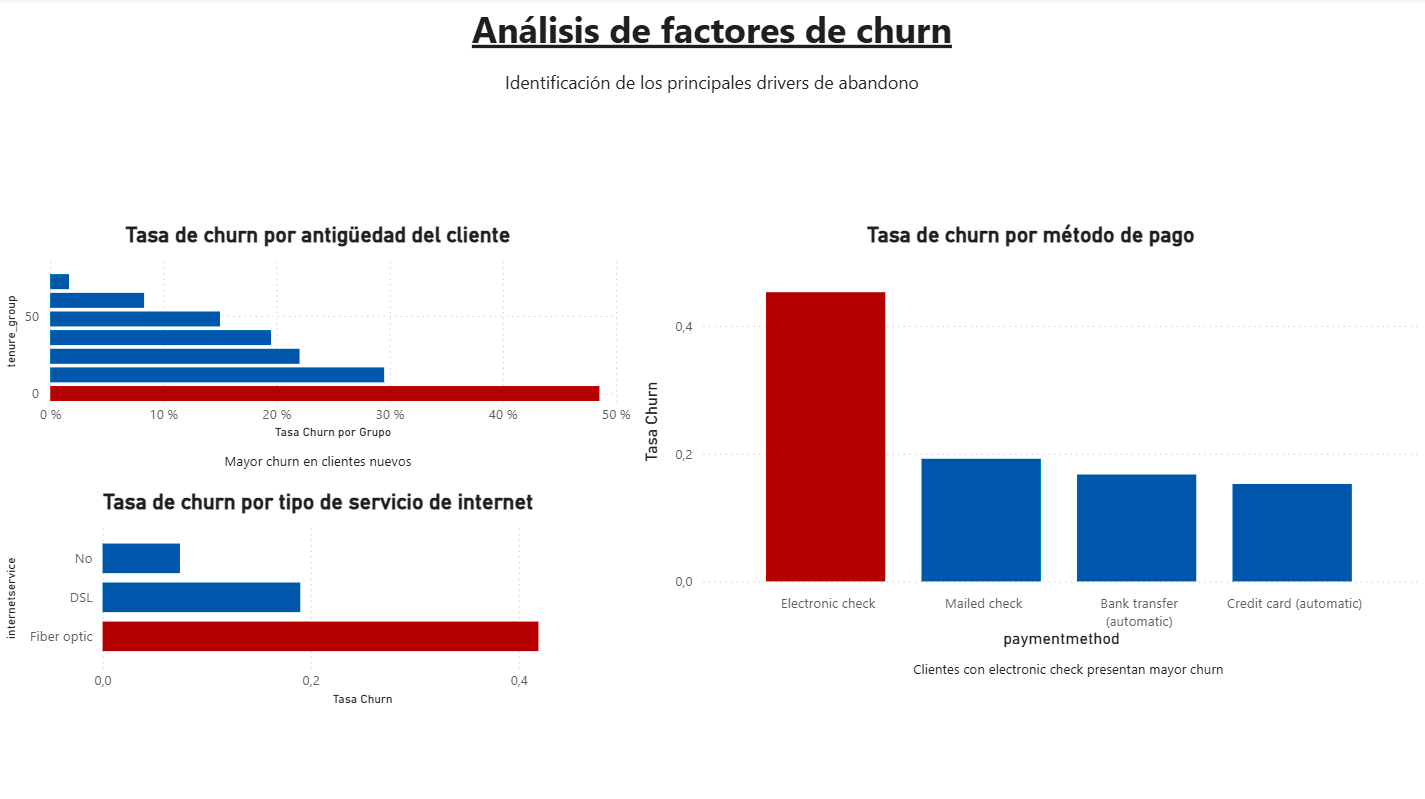

Layout of this report page (visuals, bound fields, positions):
{"tool":"powerbi","page":{"name":"Análisis de Churn","canvas":[1280,720],"ordinal":1},"visuals":[{"type":"textbox","box":[0,0,1280,121.6],"z":0},{"type":"clusteredBarChart","title":"Tasa de churn por antigüedad del cliente","fields":{"Category":["public customers.tenure_group"],"Y":["public customers.Tasa Churn por Grupo"]},"box":[0,201.5,572.8,199.4],"z":1000},{"type":"clusteredBarChart","title":"Tasa de churn por tipo de servicio de internet","fields":{"Category":["public customers.internetservice"],"Y":["public customers.Tasa Churn"]},"box":[0,440.5,573,199],"z":2000},{"type":"clusteredColumnChart","title":"Tasa de churn por método de pago","fields":{"Category":["public customers.paymentmethod"],"Y":["public customers.Tasa Churn"]},"box":[572.8,201.5,707.2,386.6],"z":3000},{"type":"textbox","box":[0,400.9,572.8,39.7],"z":4000},{"type":"textbox","box":[640,588.1,640,51.9],"z":4001}]}

Visuals, with their boxes in screenshot pixels (x1, y1, x2, y2), scaled from the page's 1280x720 canvas onto the 1425x799 screenshot:
textbox: (left=0, top=0, right=1424, bottom=135)
"Tasa de churn por antigüedad del cliente" clusteredBarChart: (left=0, top=224, right=638, bottom=445)
"Tasa de churn por tipo de servicio de internet" clusteredBarChart: (left=0, top=489, right=638, bottom=710)
"Tasa de churn por método de pago" clusteredColumnChart: (left=638, top=224, right=1424, bottom=653)
textbox: (left=0, top=445, right=638, bottom=489)
textbox: (left=712, top=653, right=1424, bottom=710)
